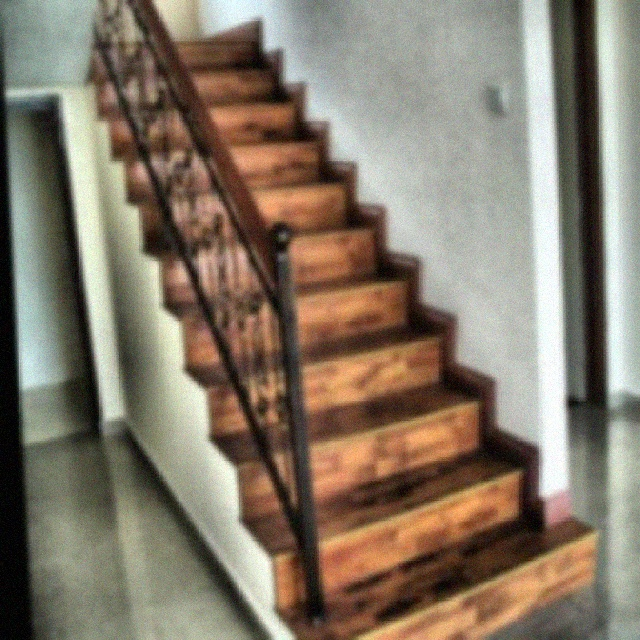stair: (133, 32, 604, 628)
